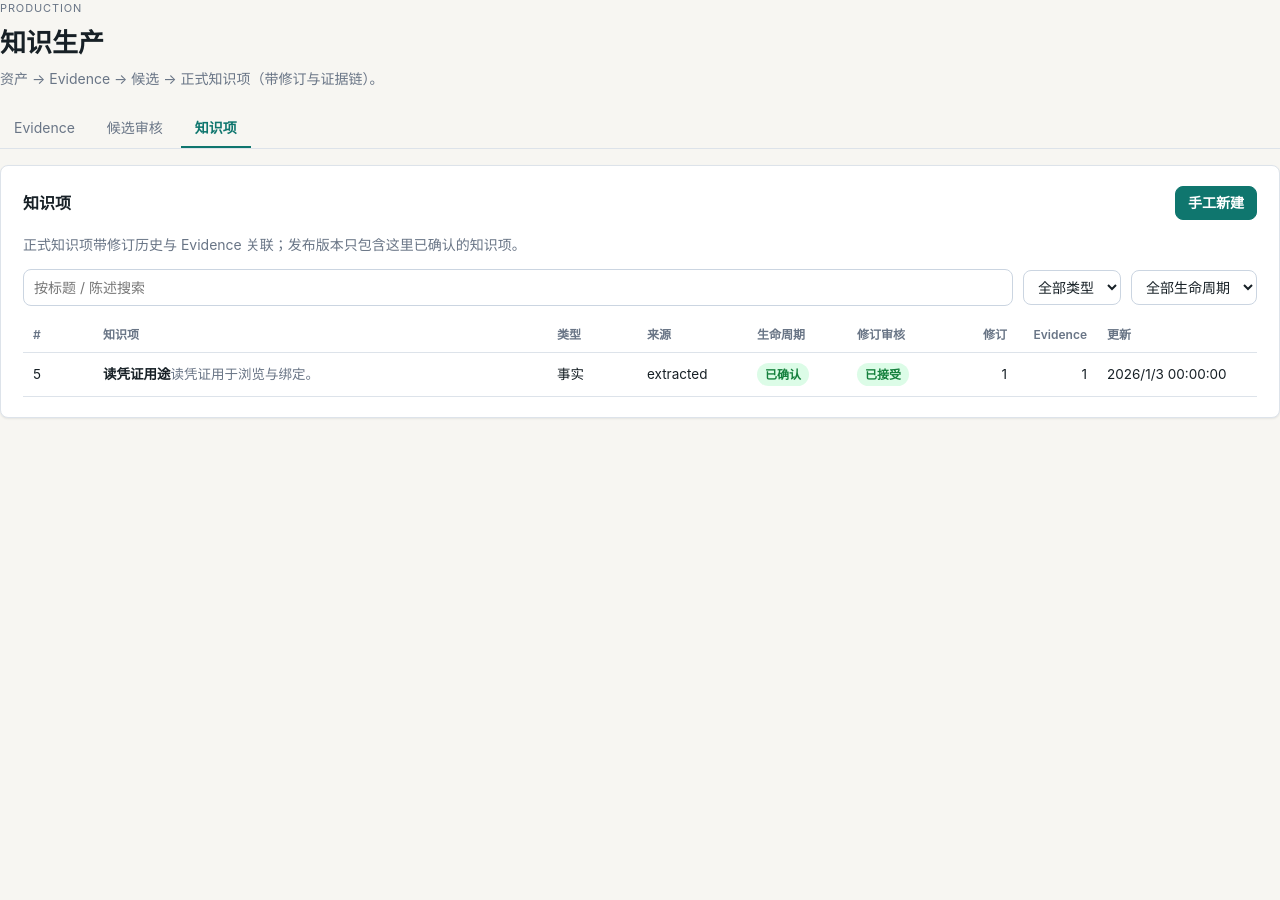
Test: production workbench › lists items with current-revision titles and opens evidence from the detail drawer
Step 1. Click the text "读凭证用途" → click(137, 374), box [103,366,170,382]
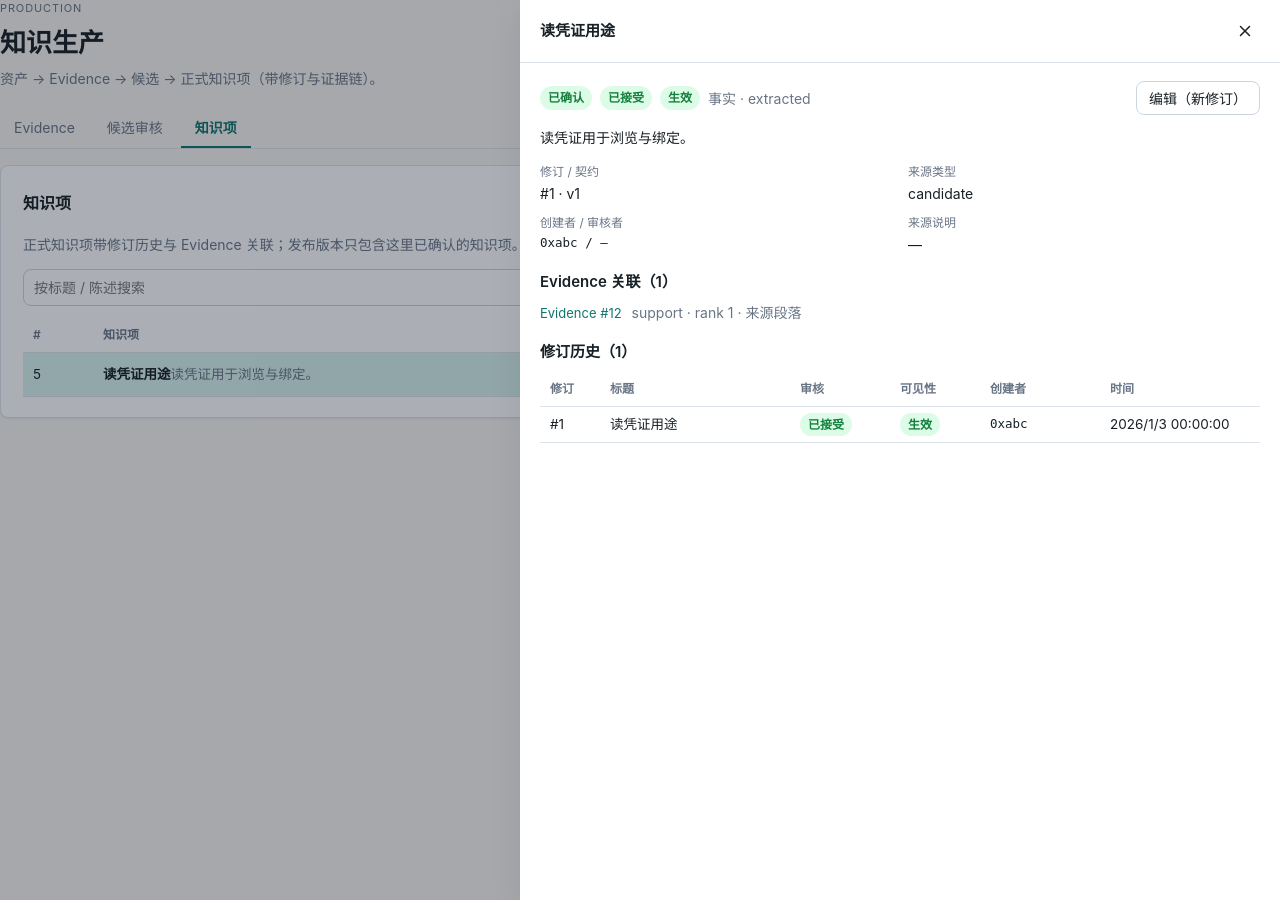
Check: the dialog shows "Evidence 关联（1）", box [520,0,1279,899]
Step 2. Click the button with aria-label "查看 Evidence 12" → click(581, 314), box [540,304,622,323]
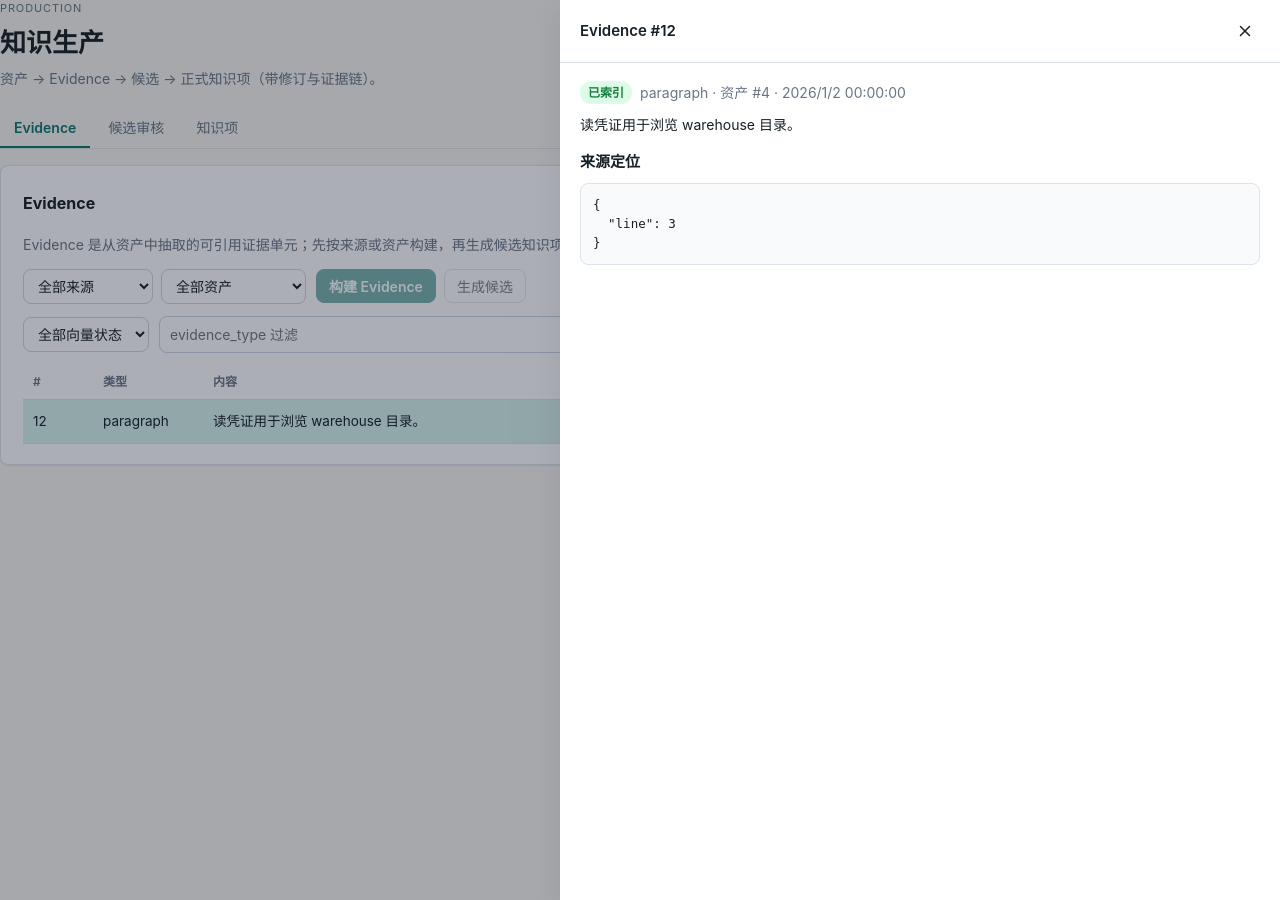
Check: the dialog shows "读凭证用于浏览 warehouse 目录。", box [580,116,801,133]
